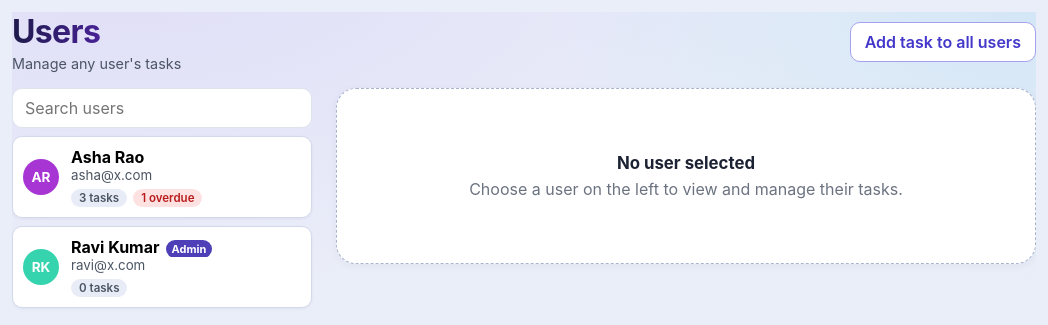
AdminPanel › filters the user list by name or email
Expected: the button "Ravi Kumar" is shown, [12,226,312,308]
Type "asha@" into the search field with placeholder "Search users" at (162, 108), box [12,88,312,128]
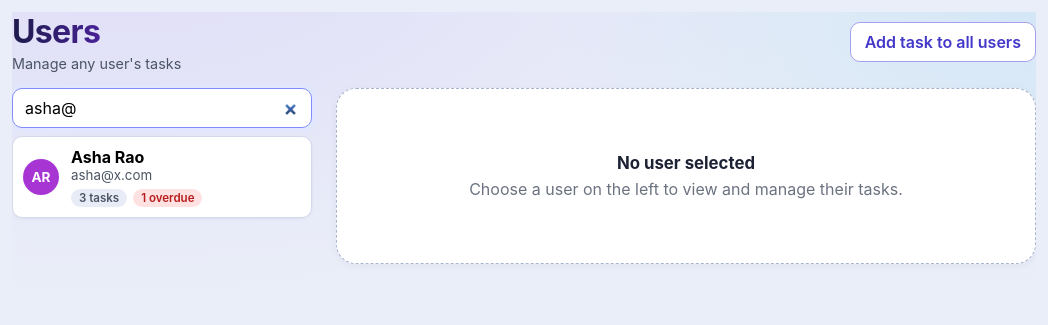
Expected: the button "AR Asha Rao asha@x.com 3 tasks 1 overdue" is shown, [12,136,312,218]
Expected: the button "Ravi Kumar" is gone
